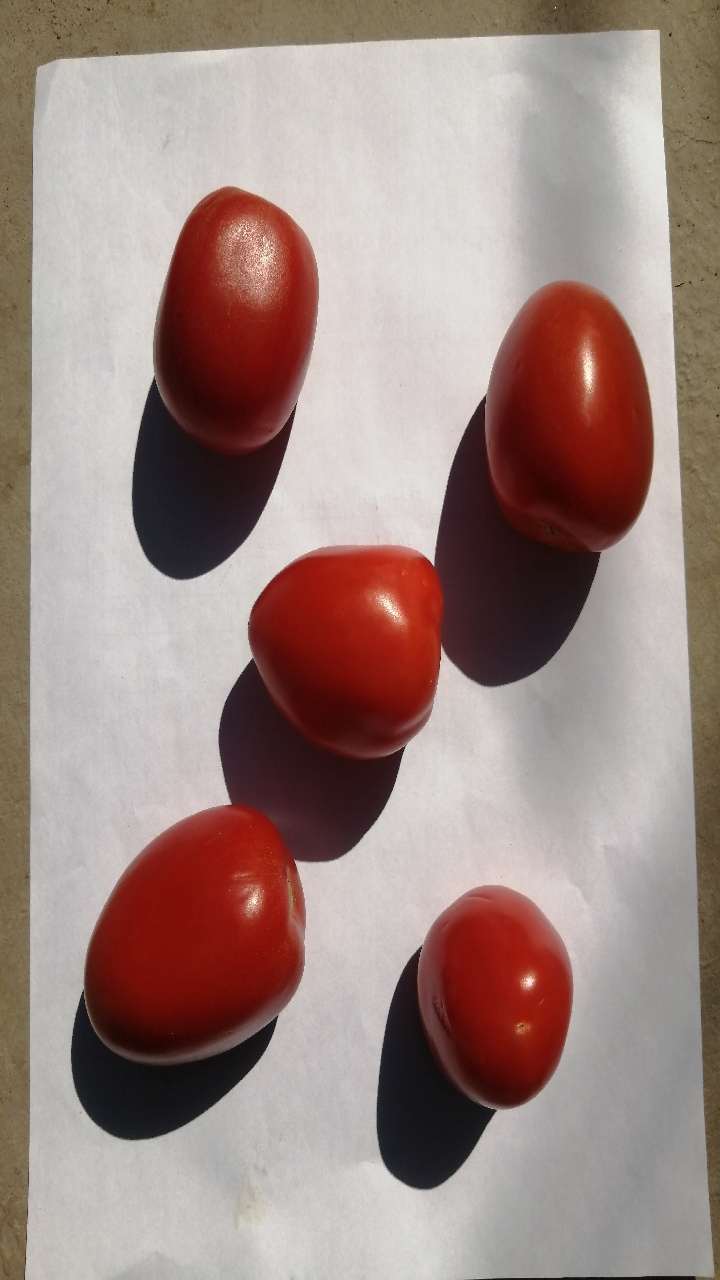tomateRojo: (72, 789, 318, 1092), (454, 260, 681, 560), (134, 174, 349, 466), (383, 872, 608, 1135), (229, 529, 471, 772)
